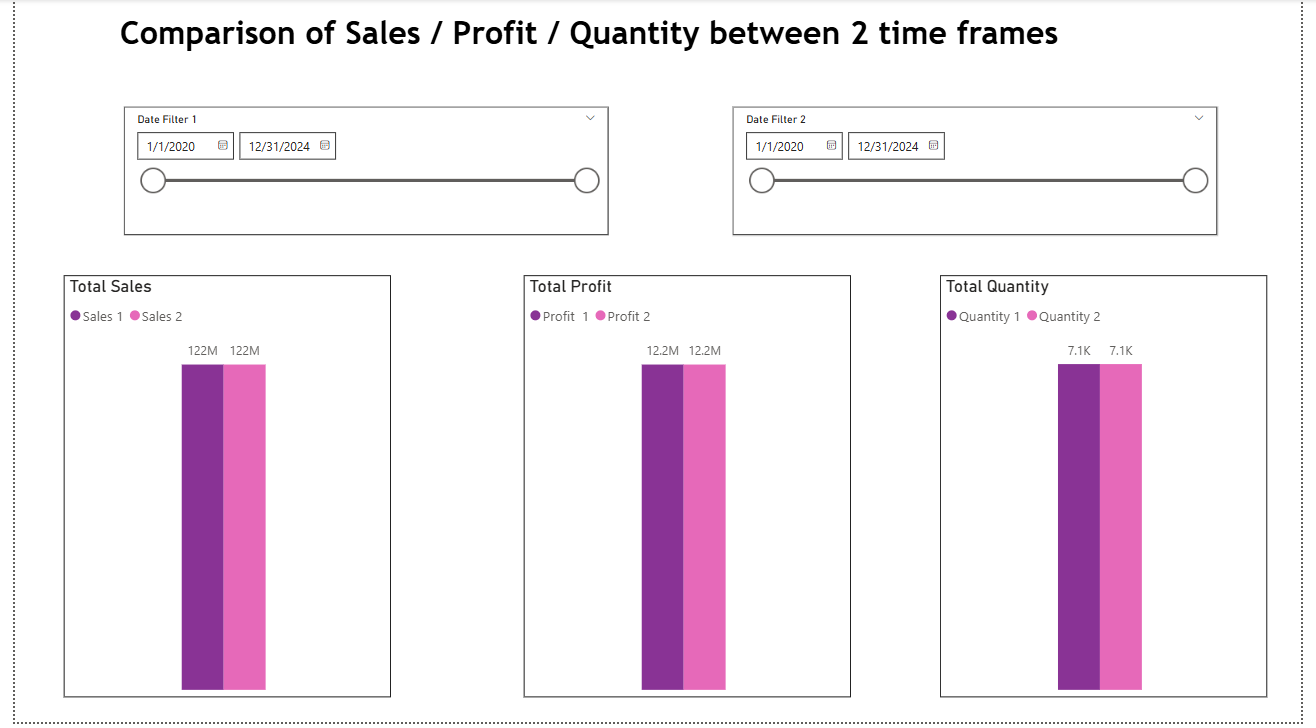

What the dashboard file says about the page in this screenshot:
{"tool":"powerbi","page":{"name":"Requirement 4","canvas":[1280,720],"ordinal":2},"visuals":[{"type":"slicer","fields":{"Values":["Date Table 1.Date"]},"box":[108.2,107,482.7,128.1],"z":0},{"type":"slicer","fields":{"Values":["Date Table 2.Date"]},"box":[714,107,482.7,128.1],"z":1000},{"type":"clusteredColumnChart","title":"Total Sales","fields":{"Y":["Sum(Fact Table.Net Sales)","Date Table 1.Sum Of Net Sales"]},"box":[48,274.4,325.2,419.9],"z":2000},{"type":"clusteredColumnChart","title":"Total Profit","fields":{"Y":["Sum(Fact Table.Profit )","Measuers Table.Sum Of Profit"]},"box":[506.3,274.4,325.2,419.9],"z":3000},{"type":"clusteredColumnChart","title":"Total Quantity","fields":{"Y":["Sum(Fact Table.Units Sold)","Measuers Table.Sum Of Quantity"]},"box":[920.8,274.4,325.2,419.9],"z":4000},{"type":"textbox","box":[99.5,10,1027.5,78.4],"z":4001}]}

Visuals, with their boxes in screenshot pixels (x1, y1, x2, y2), scaled from the page's 1280x720 canvas onto the 1316x728 screenshot:
slicer - Date Table 1.Date: BBox(111, 108, 608, 238)
slicer - Date Table 2.Date: BBox(734, 108, 1230, 238)
"Total Sales" clusteredColumnChart: BBox(49, 277, 384, 702)
"Total Profit" clusteredColumnChart: BBox(521, 277, 855, 702)
"Total Quantity" clusteredColumnChart: BBox(947, 277, 1281, 702)
textbox: BBox(102, 10, 1159, 89)
